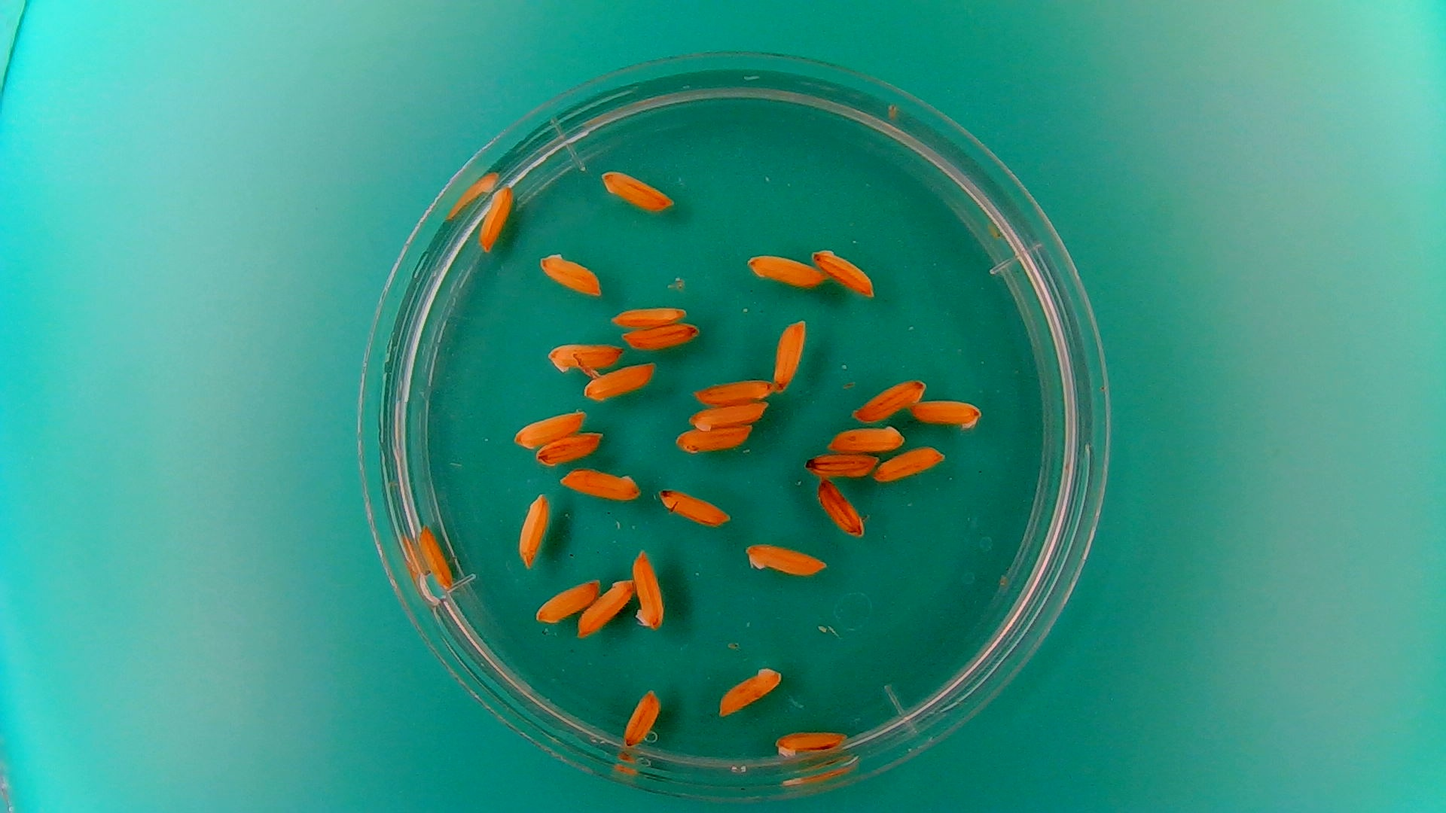no: (715, 661, 785, 719), (575, 574, 638, 638), (849, 375, 929, 424), (810, 244, 880, 300), (597, 165, 676, 214), (740, 538, 830, 580), (813, 476, 868, 540), (581, 358, 659, 403), (532, 576, 602, 626), (535, 248, 604, 298), (557, 463, 642, 503), (655, 483, 732, 527), (511, 406, 587, 450), (743, 250, 825, 290), (678, 400, 774, 434), (872, 443, 950, 484), (630, 546, 667, 632), (690, 373, 780, 408), (475, 180, 516, 255), (770, 315, 809, 392), (543, 339, 626, 375), (514, 490, 551, 570), (908, 394, 986, 431), (670, 423, 759, 455), (822, 421, 908, 454), (416, 519, 455, 590), (770, 725, 848, 760), (535, 429, 606, 467), (621, 685, 662, 748), (801, 448, 879, 481), (620, 321, 703, 352), (609, 302, 691, 330)
